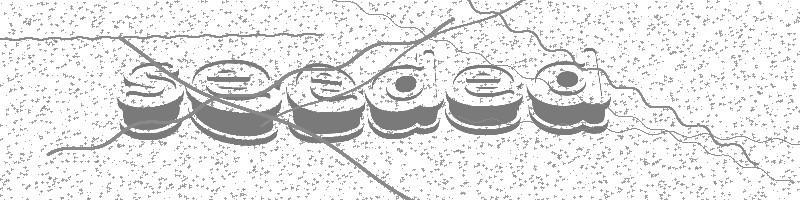d: (523, 48, 623, 138), (361, 47, 445, 140)
e: (281, 54, 371, 147), (188, 59, 283, 146), (437, 63, 525, 138)
s: (114, 59, 185, 142)
